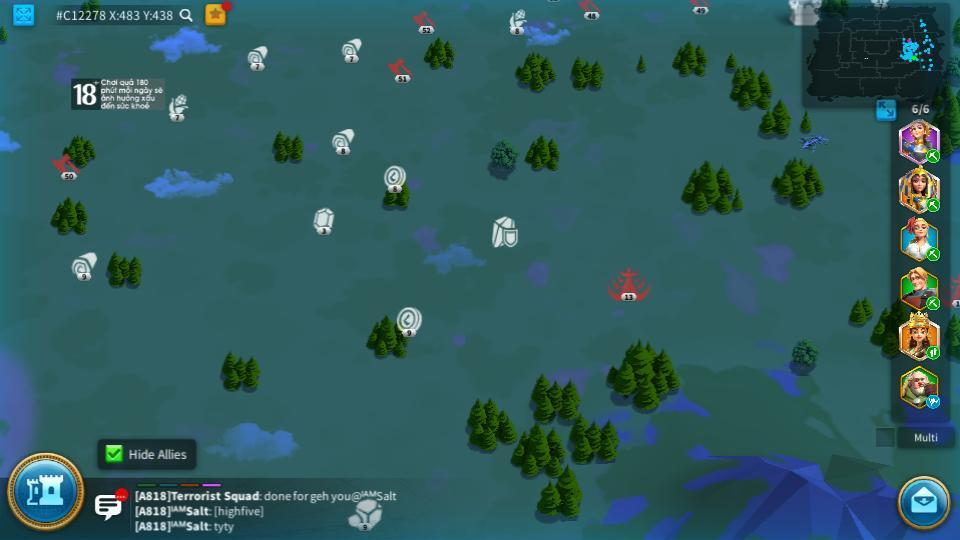gem-z-out: (311, 207, 335, 234)
march_farming: (925, 197, 941, 212), (926, 297, 942, 310), (925, 249, 941, 261), (925, 151, 941, 162)
march_idle: (925, 396, 942, 408)
march_marching: (926, 347, 942, 359)
